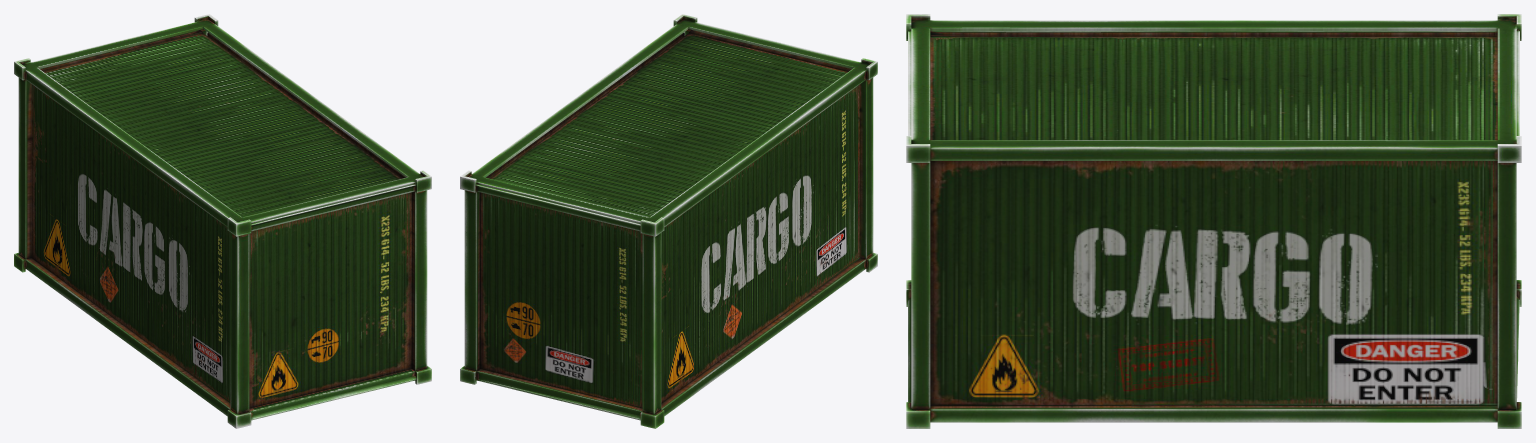
File: Container.FBX
3 views of the same model, side by side, from view 1: azimuth 30°, elevation 25°; view 2: azimuth 150°, elevation 25°; view 3: azimuth 270°, elevation 25° (orthographic). The views are drawn at different scales.
Parts seen in each view (by area): view 1: Object003, Object004, Object005, Object002, Object001; view 2: Object003, Object002, Object005, Object004, Object001; view 3: Object001, Object005, Object003, Object004, Object002.
Part boxes in pixels (x1,y1,x2,y2): Object003: (22, 62, 245, 416); Object004: (227, 170, 431, 428); Object005: (44, 33, 401, 217); Object002: (14, 14, 218, 272); Object001: (197, 19, 423, 181); Object003: (646, 62, 869, 416); Object002: (460, 170, 664, 428); Object005: (490, 33, 847, 217); Object004: (673, 14, 877, 272); Object001: (468, 19, 694, 181); Object001: (911, 140, 1516, 422); Object005: (930, 37, 1497, 140); Object003: (911, 20, 1516, 36); Object004: (906, 14, 930, 428); Object002: (1497, 14, 1521, 428).
Bounding box in the file's own units: 49.97 × 49.97 × 98.43.
Materials: 1 (1 with a texture image).
